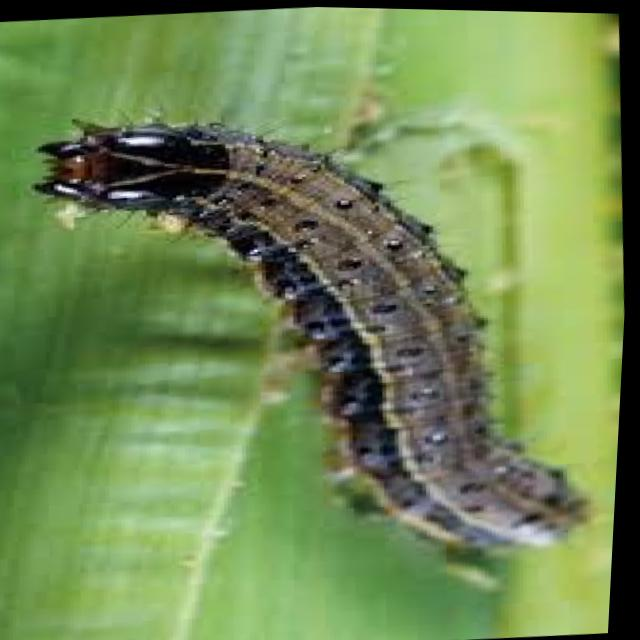Fall-Armyworm: (11, 76, 638, 584)
